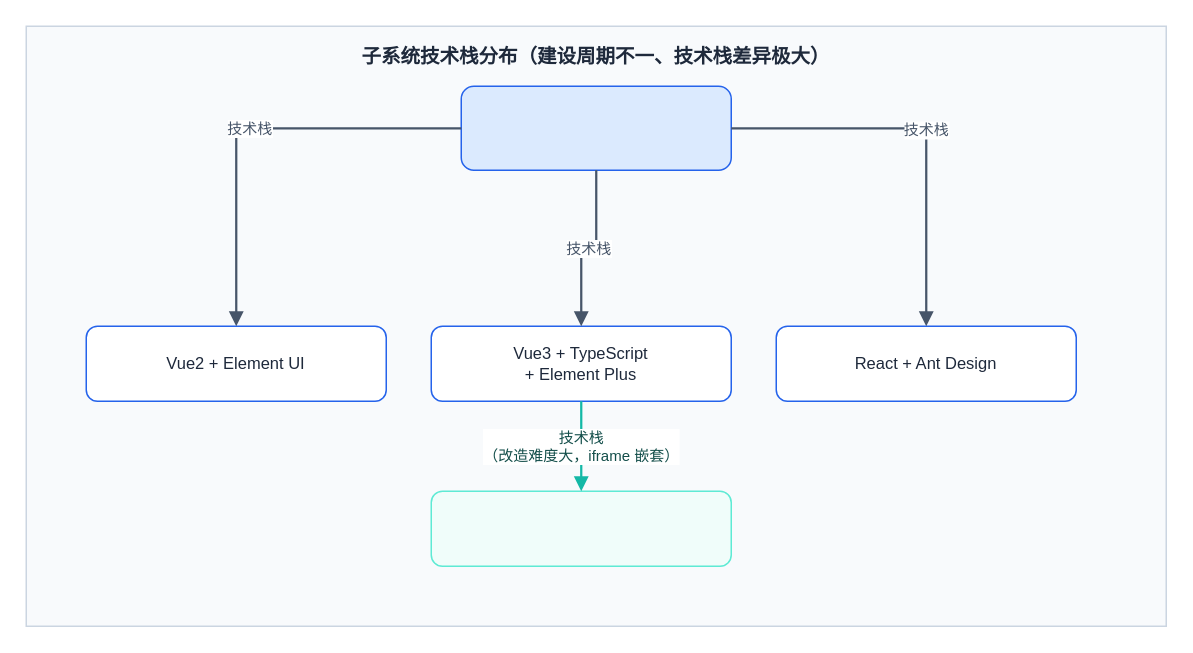
This 1193x653 diagram has some shape labels left out. The shapes that lost their labels are listed below. From the top down, each one's centre as x and y in pixels, then its label:
At point (595, 127): "复杂中后台子系统".
At point (580, 528): "老旧 jQuery + Layui 项目".
